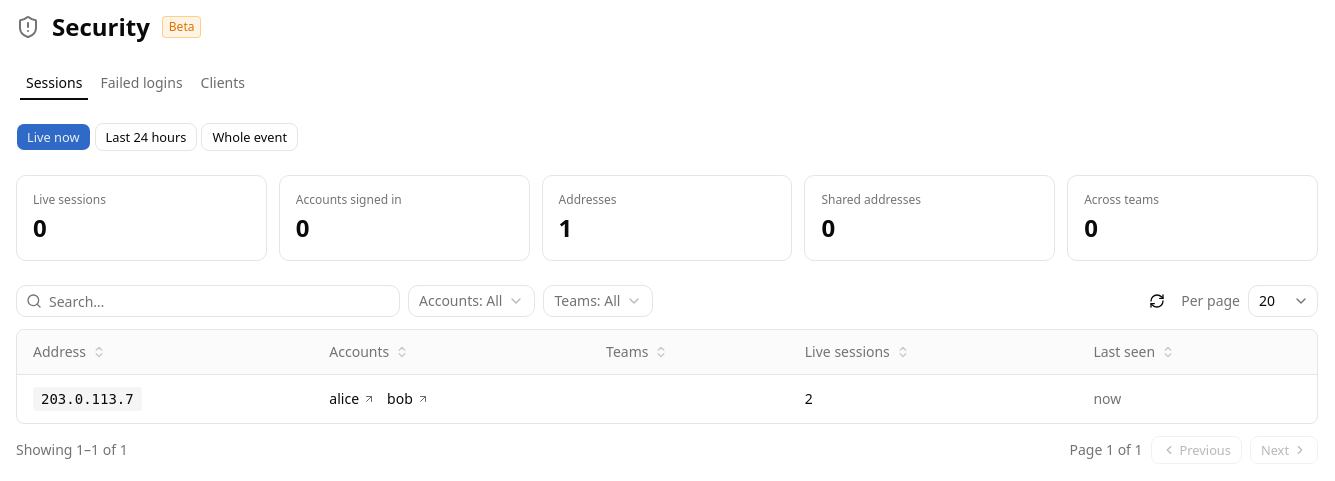
Test: counts the usernames the server left off the list
Click the tab "Failed logins" at (142, 83), box [93,70,190,96]
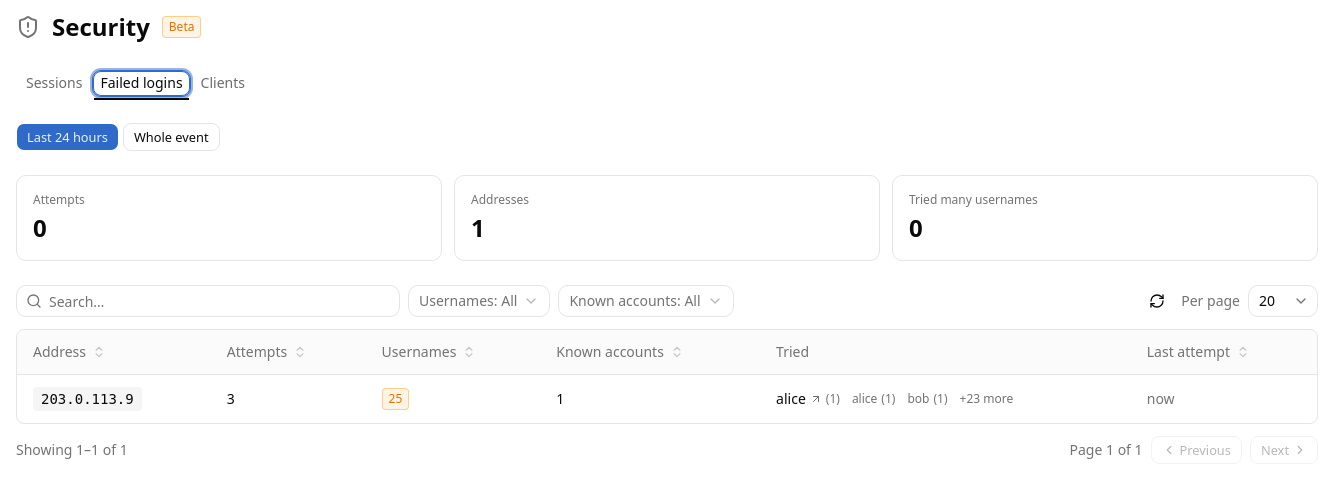
Expected: the text "+23 more" is shown, [960,391,1013,407]
